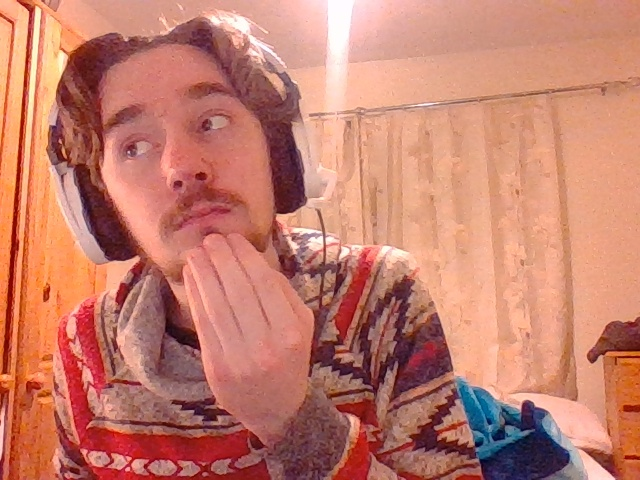thanks: (185, 232, 316, 417)
